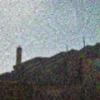chimneys: (15, 46, 23, 66)
